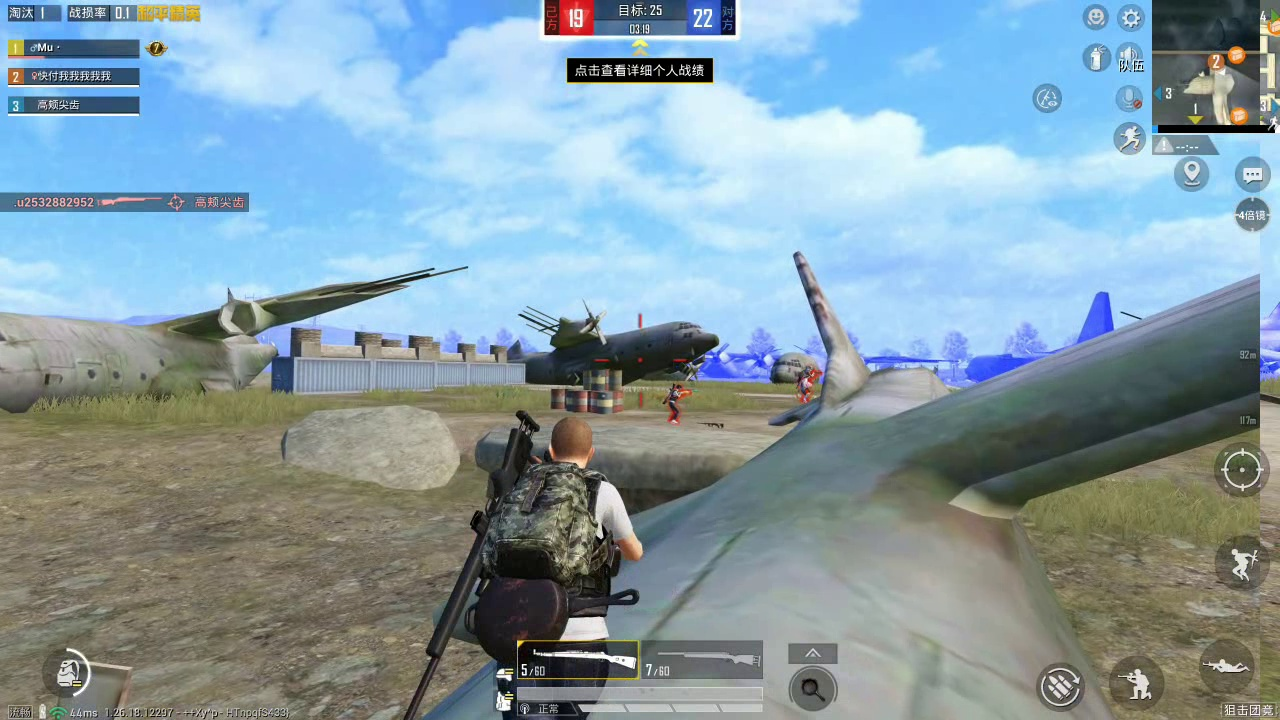enemy: (664, 379, 688, 428), (795, 361, 816, 404)
